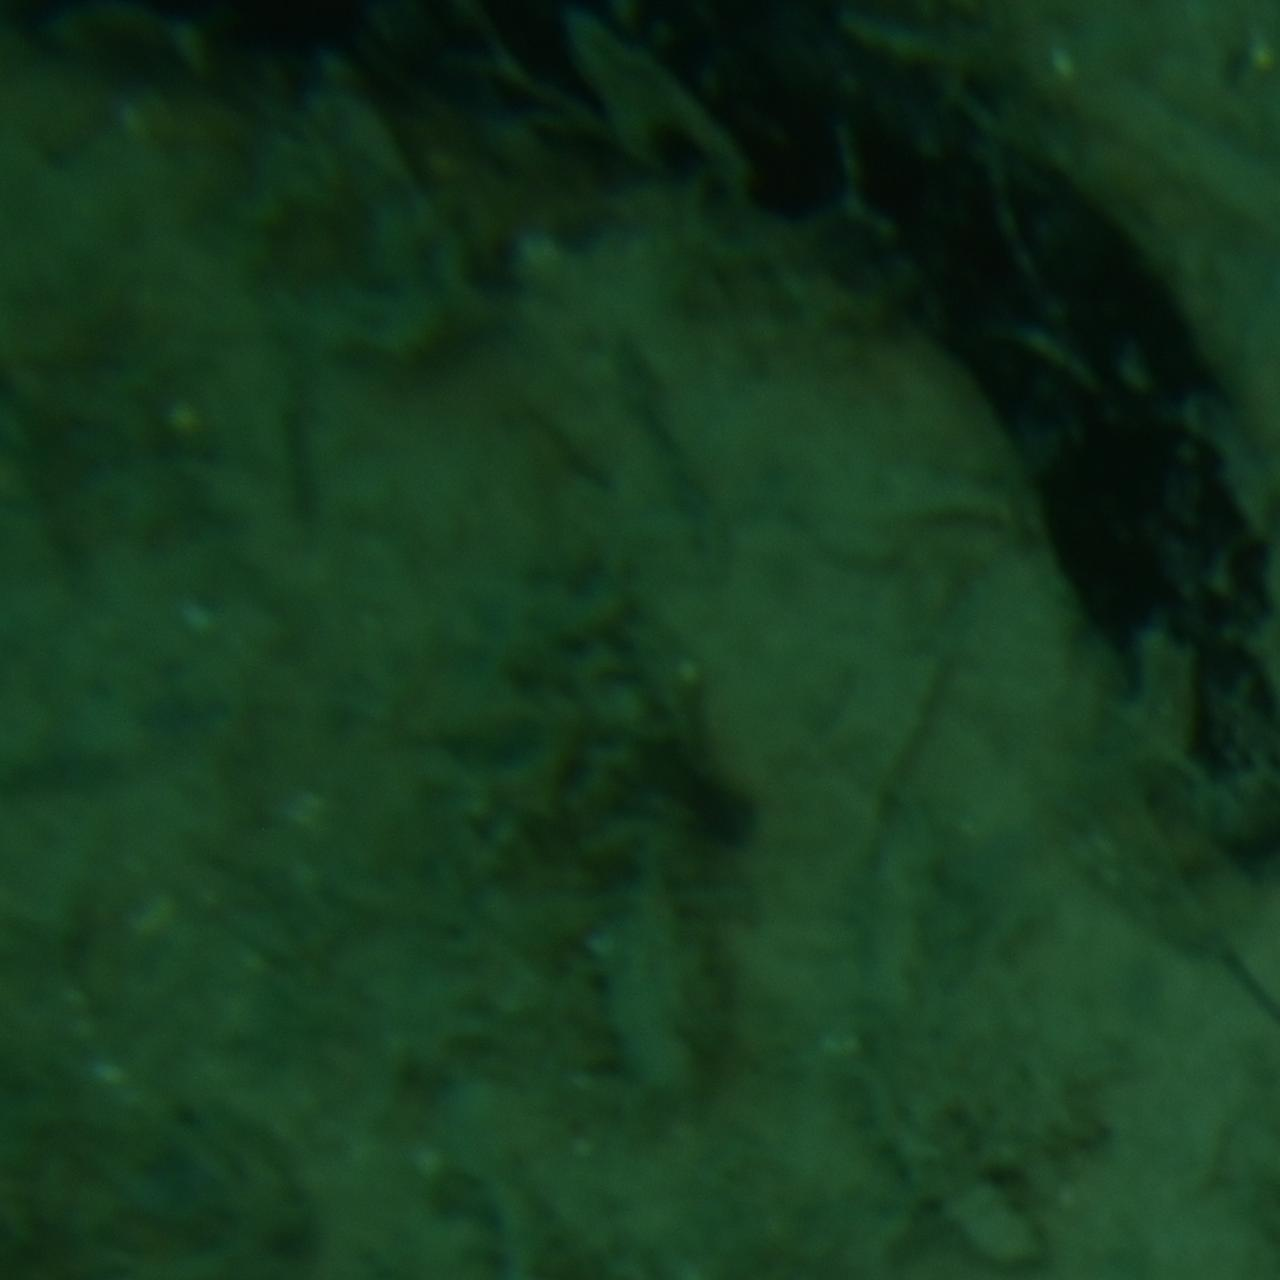Holothuria tubulosa: (0, 0, 1280, 886)
